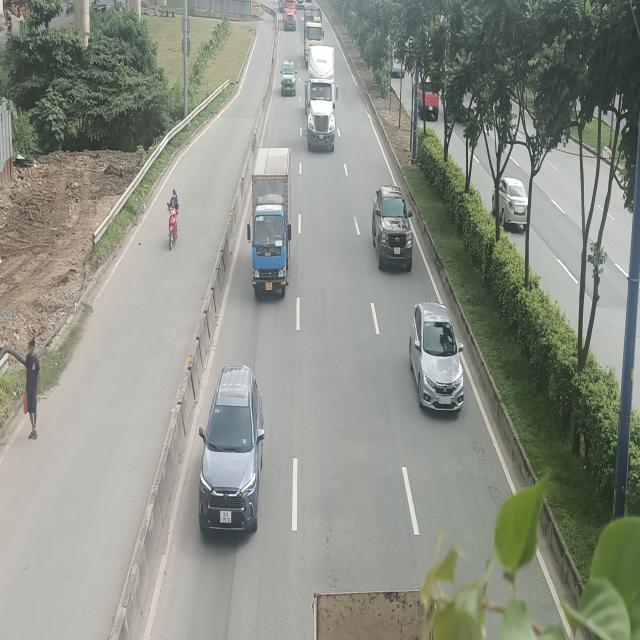car: (200, 364, 264, 534), (411, 300, 464, 415), (372, 183, 414, 268), (280, 59, 296, 97)
container: (304, 45, 339, 151), (283, 1, 297, 30)
truck: (248, 144, 292, 297), (303, 6, 324, 66)
